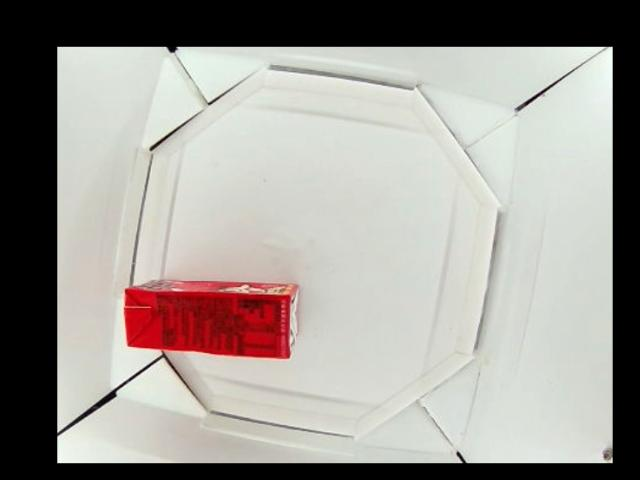Bottle: (121, 268, 301, 359)
